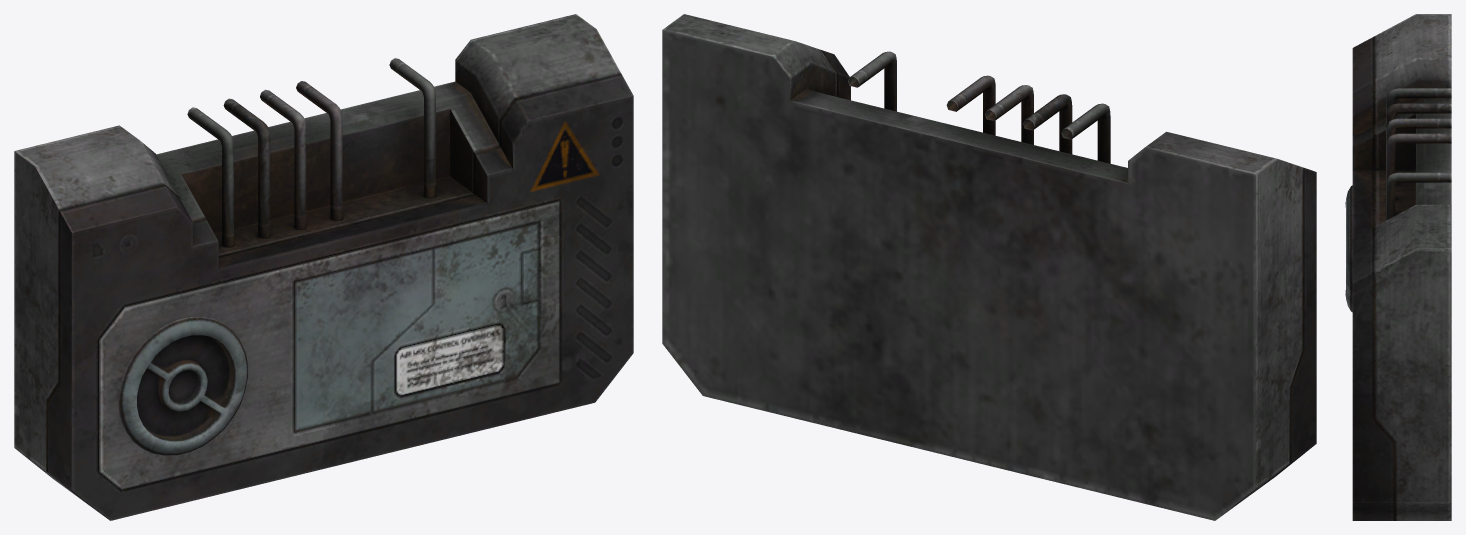
File: environment_control.dae
3 renders of one model, left to right at view 1: azimuth 30°, elevation 25°; view 2: azimuth 150°, elevation 25°; view 3: azimuth 270°, elevation 25°, orthographic. The views are drawn at different scales.
Parts seen in each view (by area): view 1: environment_control; view 2: environment_control; view 3: environment_control.
Part boxes in pixels (x1,y1,x2,y2): environment_control: (14, 14, 633, 520); environment_control: (662, 14, 1316, 520); environment_control: (1345, 14, 1451, 520).
Size of the model in its own units: 65.26 by 37.43 by 12.47.
